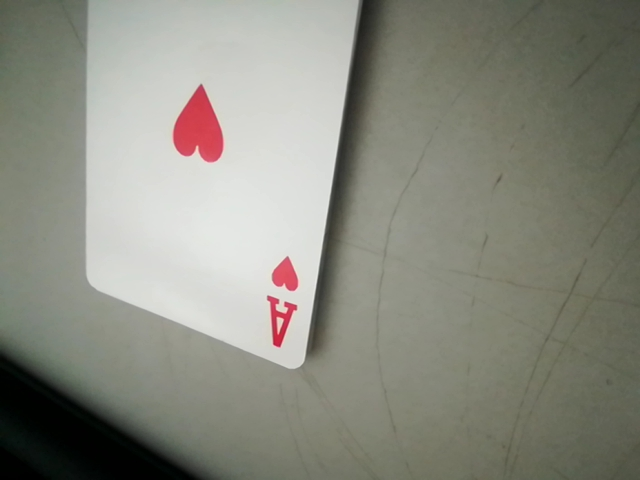hx a: (264, 257, 308, 349)
